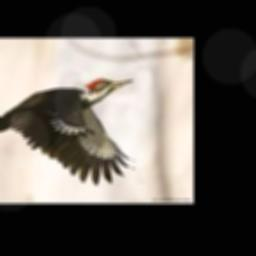Woodpecker: (0, 79, 136, 186)
